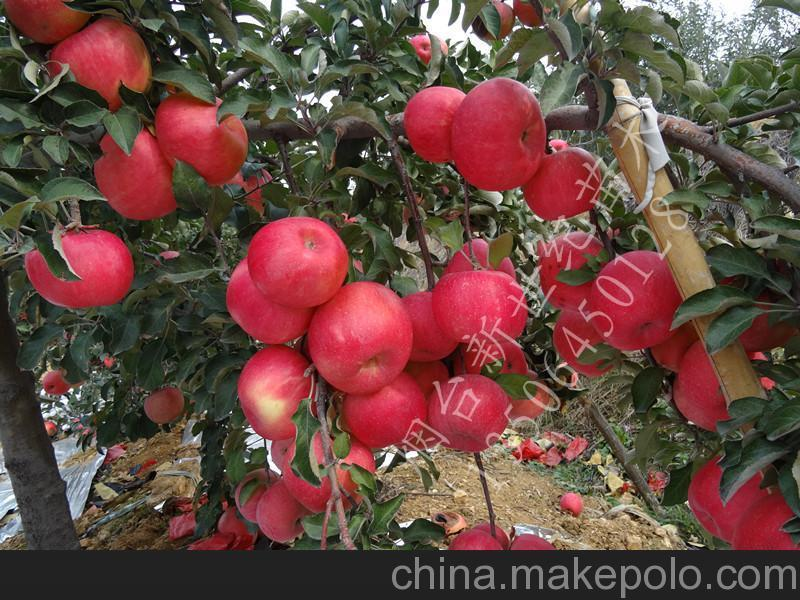apple: (304, 280, 411, 394), (450, 77, 547, 188), (689, 451, 796, 546), (247, 213, 348, 313), (47, 15, 151, 110), (27, 223, 133, 311), (154, 96, 249, 190), (590, 249, 678, 349), (666, 337, 759, 426), (92, 126, 177, 221), (433, 270, 530, 353), (237, 345, 319, 440), (236, 344, 314, 442), (226, 256, 310, 343), (429, 376, 510, 455), (344, 371, 426, 449), (526, 144, 601, 220), (405, 84, 469, 166)
